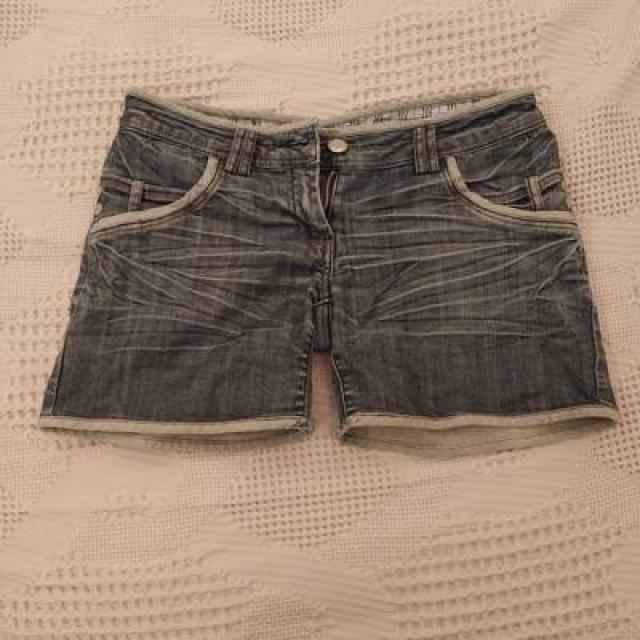Clothes -Biodegradable-: (36, 94, 618, 454)
